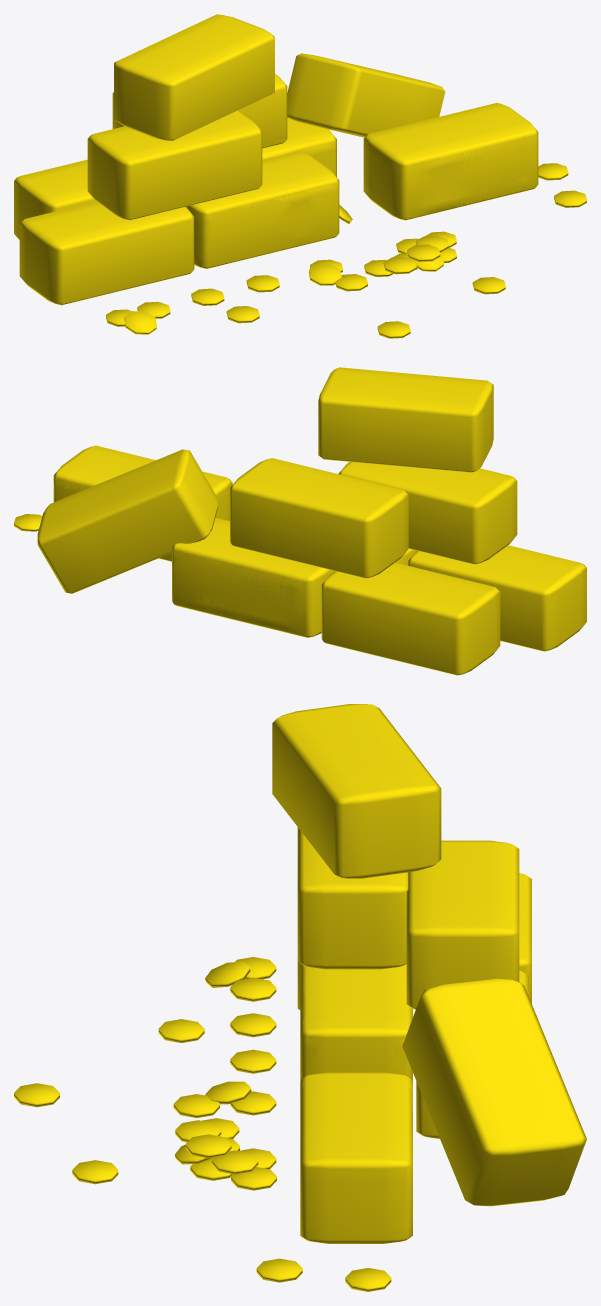
The model's file is gold.fbx.
The picture shows the model from 3 angles, top to bottom: view 1: azimuth 30°, elevation 25°; view 2: azimuth 150°, elevation 25°; view 3: azimuth 270°, elevation 25°; orthographic projection. The views are drawn at different scales.
Parts seen in each view (by area): view 1: pCube12, pCube3, pCube9, pCube10, pCube6, pCube5, pCube4, pCube7, pCube8, pCube11, pCube1, pCube2 (+12 smaller); view 2: pCube11, pCube12, pCube5, pCube8, pCube10, pCube1, pCube9, pCube2, pCube3, pCube4, pCylinder15; view 3: pCube5, pCube12, pCube3, pCube11, pCube10, pCube6, pCube7, pCube4, pCube8, pCylinder9, pCylinder13, pCylinder15 (+13 smaller).
Boxes of the visible parts, x1,y1,x2,y2 form: pCube12: [114, 14, 274, 140]; pCube3: [363, 103, 538, 220]; pCube9: [19, 201, 194, 305]; pCube10: [87, 110, 262, 220]; pCube6: [186, 151, 339, 268]; pCube5: [287, 53, 445, 137]; pCube4: [363, 103, 538, 218]; pCube7: [186, 151, 339, 265]; pCube8: [14, 159, 95, 239]; pCube11: [112, 74, 287, 148]; pCube1: [262, 118, 336, 176]; pCube2: [262, 118, 336, 172]; pCube11: [230, 458, 408, 578]; pCube12: [318, 367, 493, 472]; pCube5: [37, 449, 217, 593]; pCube8: [321, 562, 500, 675]; pCube10: [338, 462, 517, 564]; pCube1: [172, 517, 334, 637]; pCube9: [408, 545, 586, 651]; pCube2: [172, 518, 333, 636]; pCube3: [53, 445, 232, 561]; pCube4: [53, 445, 232, 559]; pCylinder15: [14, 514, 42, 531]; pCube5: [402, 978, 586, 1206]; pCube12: [272, 704, 441, 878]; pCube3: [300, 1072, 412, 1243]; pCube11: [406, 840, 519, 1009]; pCube10: [297, 827, 408, 969]; pCube6: [300, 963, 412, 1079]; pCube7: [300, 964, 412, 1075]; pCube4: [300, 1074, 412, 1239]; pCube8: [519, 873, 531, 1003]; pCylinder9: [158, 1019, 204, 1042]; pCylinder13: [72, 1160, 118, 1184]; pCylinder15: [345, 1268, 391, 1291].
Size of the model in its own units: 3.79 by 1.5 by 2.6.
